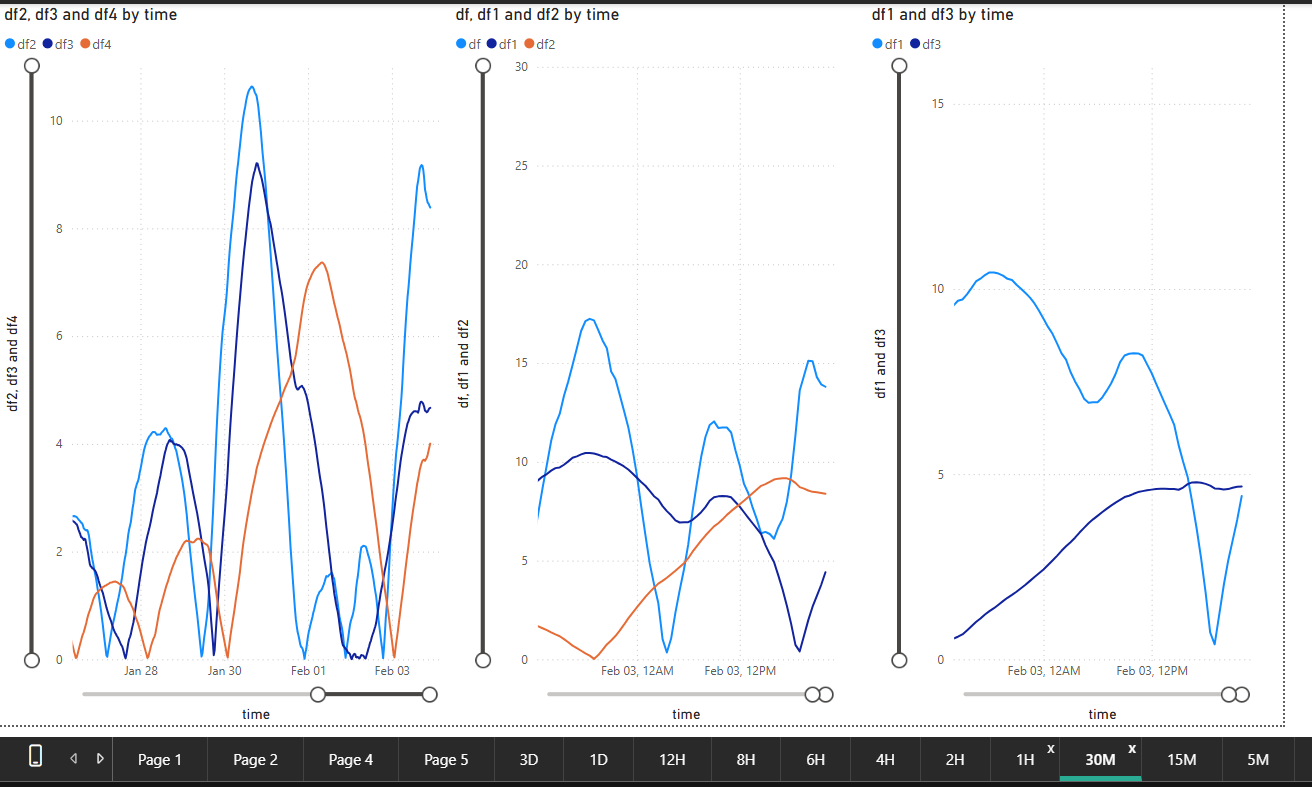

Layout of this report page (visuals, bound fields, positions):
{"tool":"powerbi","page":{"name":"30M","canvas":[1280,720],"ordinal":12},"visuals":[{"type":"lineChart","fields":{"Category":["df_30M.time"],"Y":["Sum(df2_30M.angle)","Sum(df3_30M.angle)","Sum(df4_30M.angle)"]},"box":[0,0,452.7,720.6],"z":0},{"type":"lineChart","fields":{"Category":["df_30M.time"],"Y":["Sum(df_30M.angle)","Sum(df1_30M.angle)","Sum(df2_30M.angle)"]},"box":[450.4,0,414.8,720.6],"z":1000},{"type":"lineChart","fields":{"Category":["df_30M.time"],"Y":["Sum(df1_30M.angle)","Sum(df3_30M.angle)"]},"box":[865.2,0,414.8,720.6],"z":2000}]}

Visuals, with their boxes on the page's 1280x720 design canvas (x1, y1, x2, y2). These are canvas units, not pixel positions in the 1312x787 screenshot, which may show the page scaled, cropped or inside an application window:
lineChart - df_30M.time x Sum(df2_30M.angle): l=0, t=0, r=453, b=721
lineChart - df_30M.time x Sum(df_30M.angle): l=450, t=0, r=865, b=721
lineChart - df_30M.time x Sum(df1_30M.angle): l=865, t=0, r=1280, b=721
